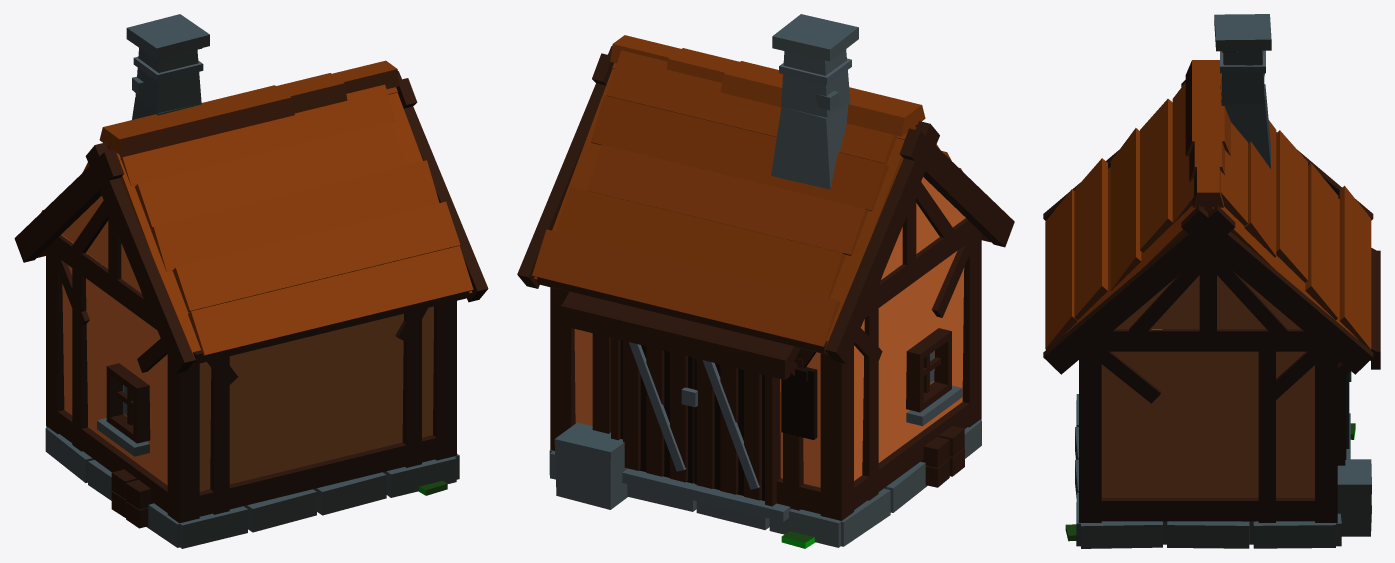
Rendered from smithy_a.obj.
3 renders of one model, left to right at view 1: azimuth 30°, elevation 25°; view 2: azimuth 150°, elevation 25°; view 3: azimuth 270°, elevation 25°, orthographic. The views are drawn at different scales.
Parts seen in each view (by area): view 1: abp_smithy_a; view 2: abp_smithy_a; view 3: abp_smithy_a.
Part boxes in pixels (x1,y1,x2,y2): abp_smithy_a: (14, 14, 488, 548); abp_smithy_a: (517, 14, 1014, 548); abp_smithy_a: (1043, 14, 1380, 548).
Bounding box in the file's own units: 1.96 × 2.7 × 1.94.
